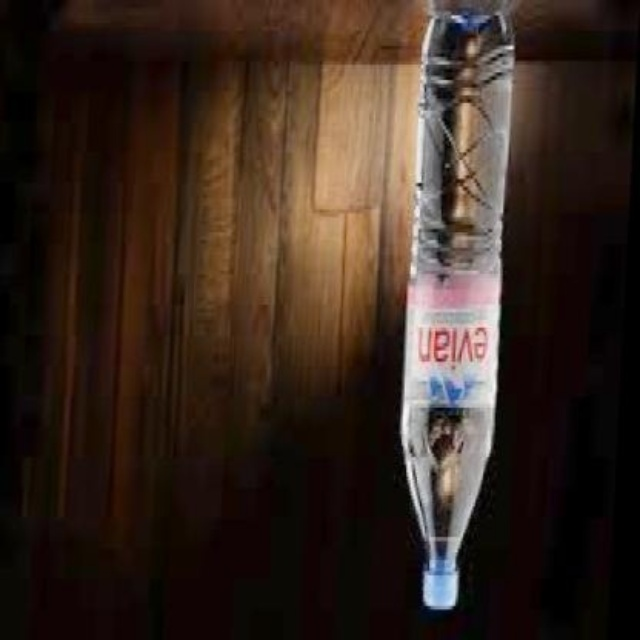trash: (402, 0, 512, 608)
